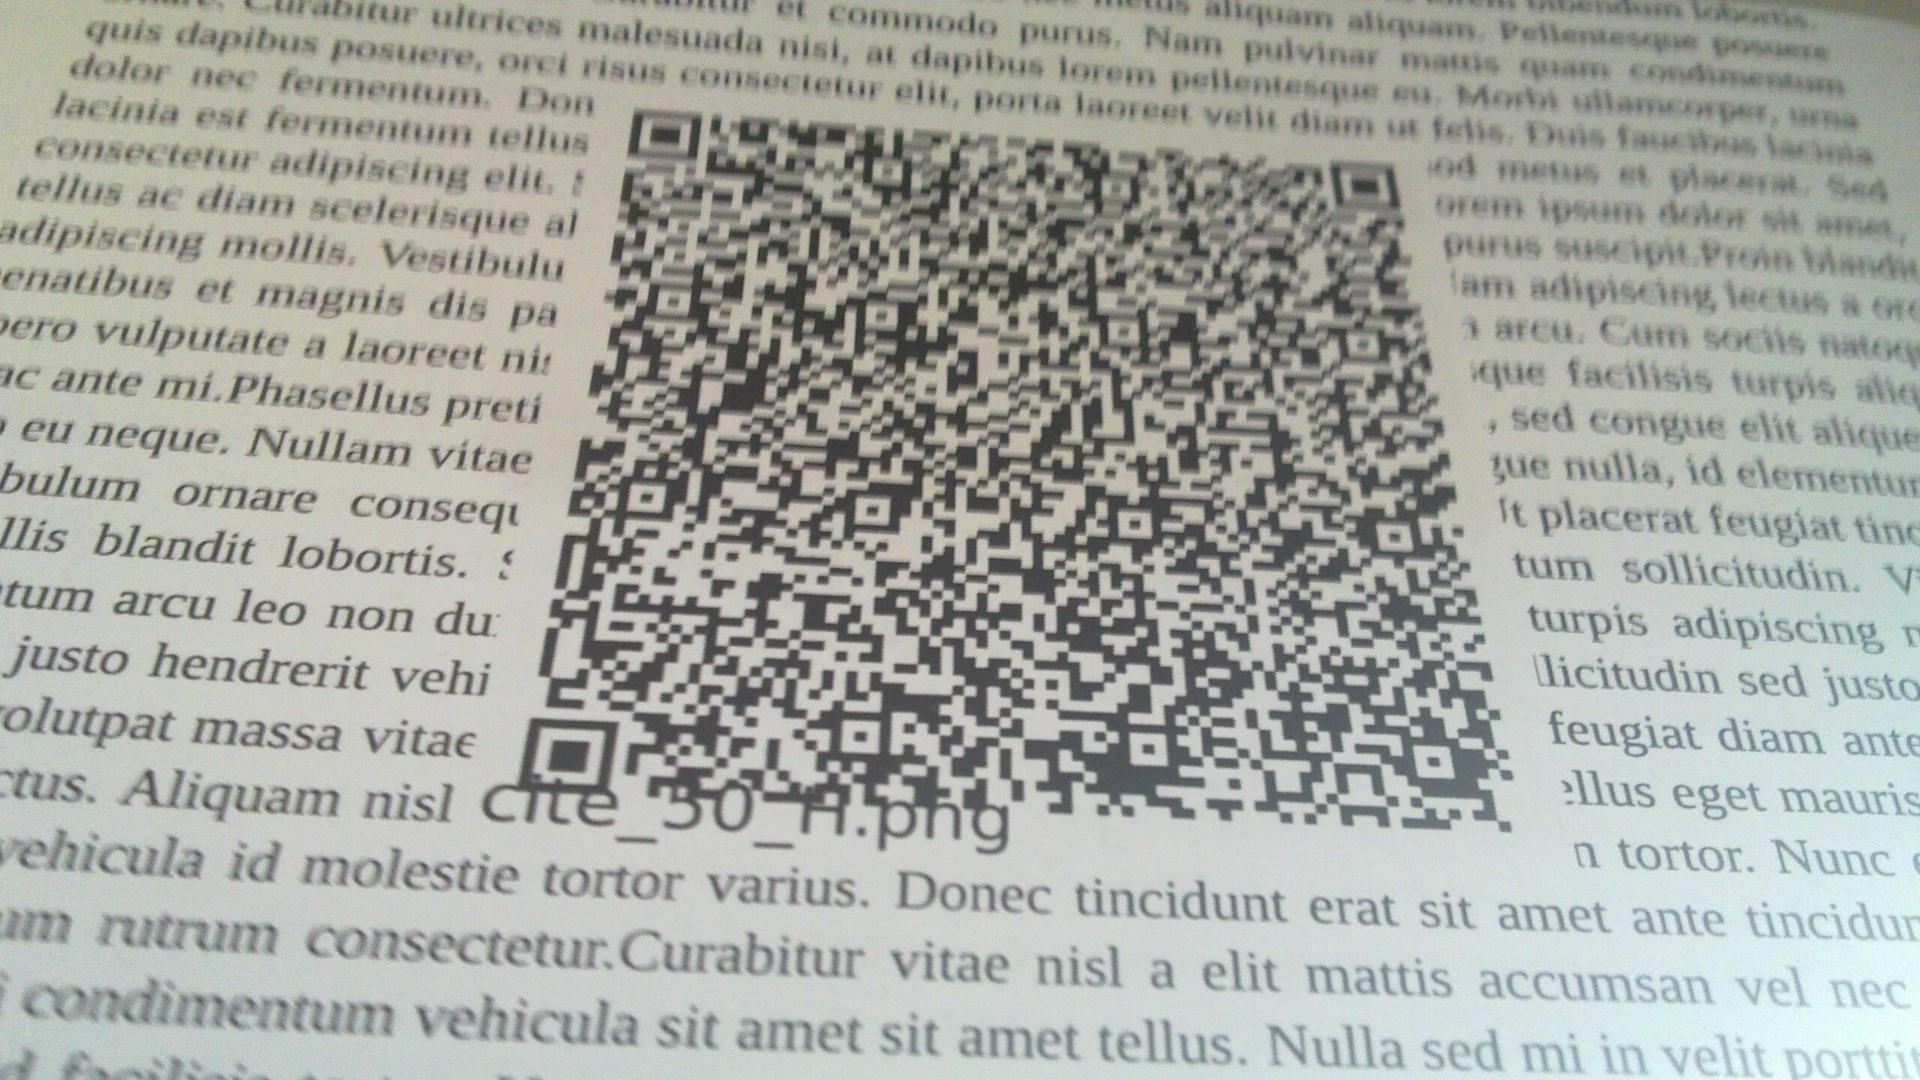Finder pattern: (516, 711, 618, 800), (622, 103, 704, 164), (1324, 154, 1403, 214)
